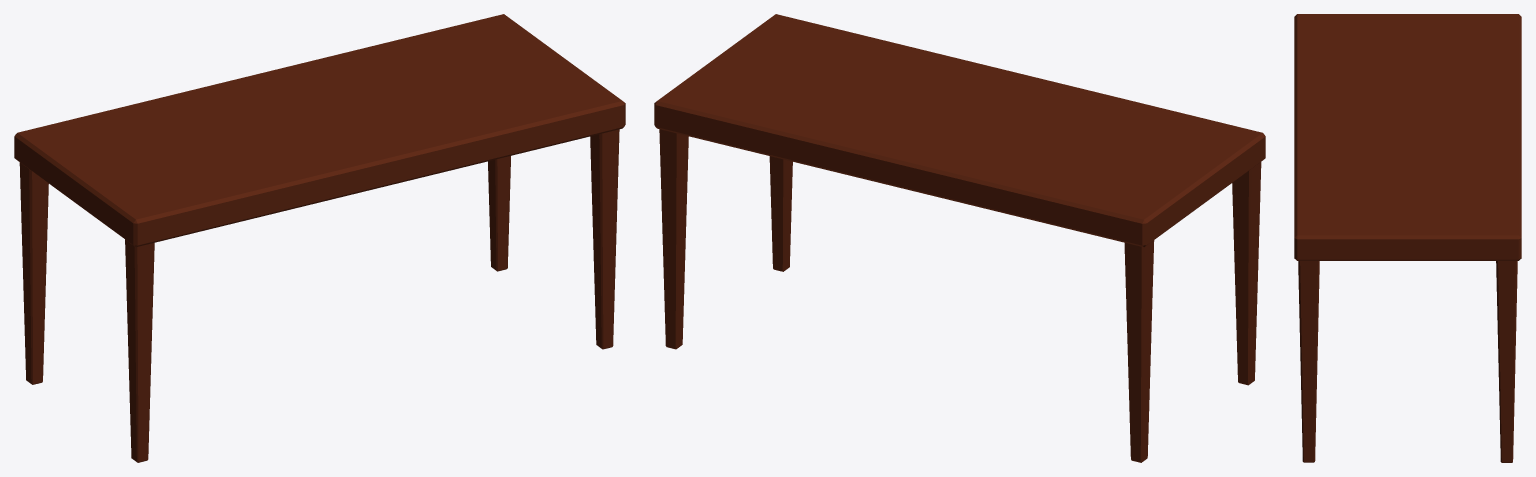
File: hh_table.glb
3 renders of one model, left to right at view 1: azimuth 30°, elevation 25°; view 2: azimuth 150°, elevation 25°; view 3: azimuth 270°, elevation 25°, orthographic. The views are drawn at different scales.
Parts seen in each view (by area): view 1: Table_A; view 2: Table_A; view 3: Table_A.
Boxes of the visible parts, x1,y1,x2,y2 form: Table_A: [14, 14, 625, 462]; Table_A: [654, 14, 1265, 462]; Table_A: [1294, 14, 1521, 462].
Size of the model in its own units: 1.66 by 0.796 by 0.7116.
